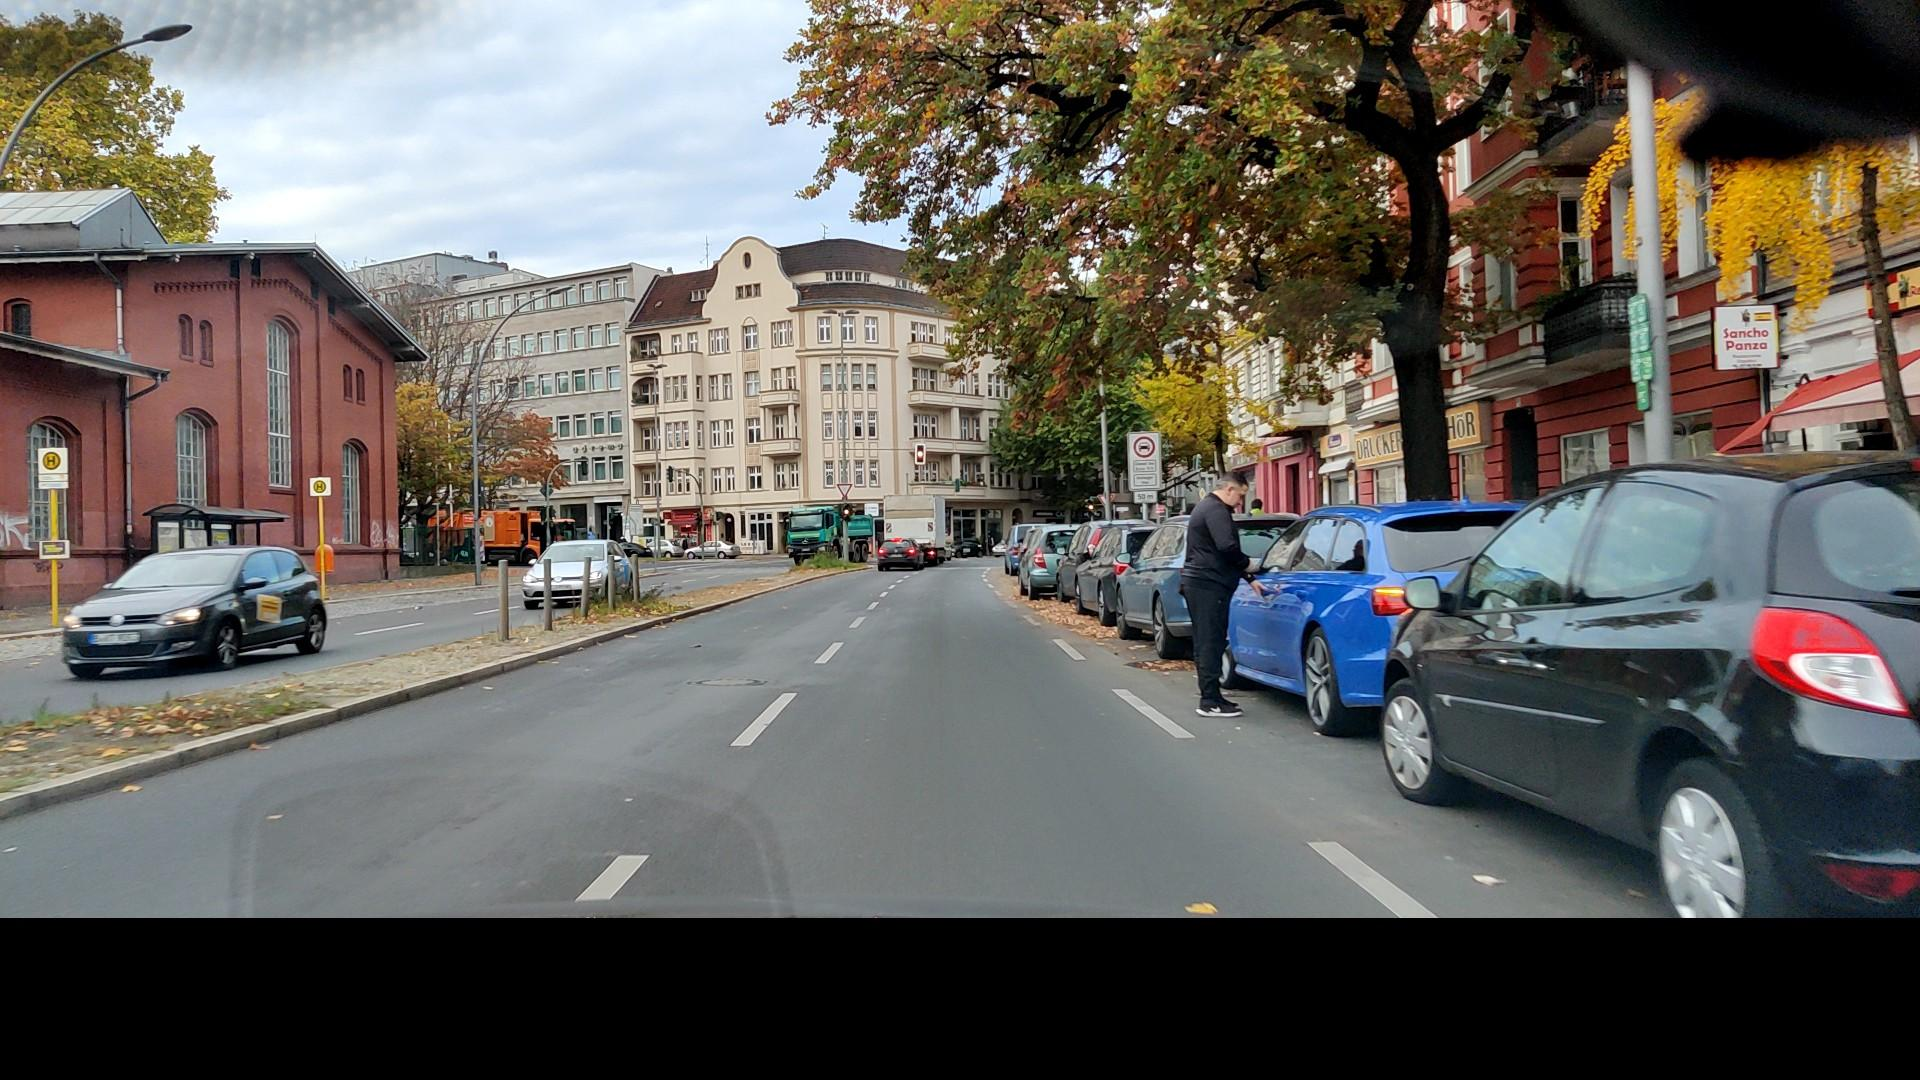Human face: (1218, 473, 1249, 510)
Vehicle registration plate: (87, 632, 141, 646), (545, 584, 572, 591)
